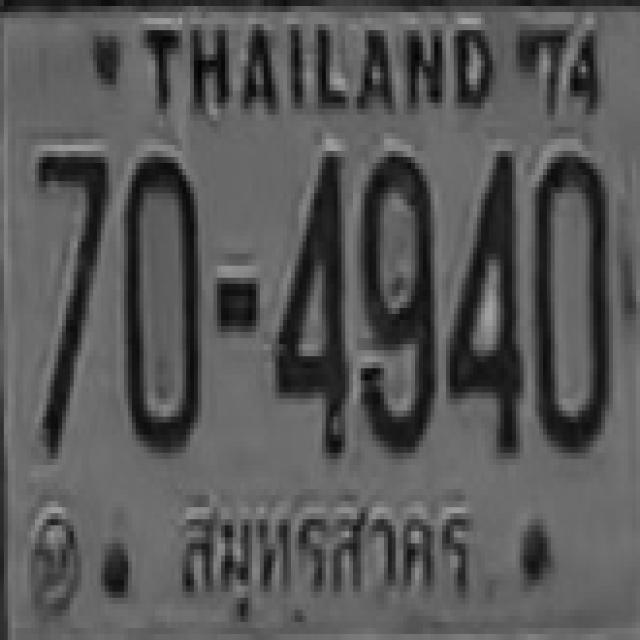0: (531, 148, 609, 450), (120, 151, 198, 447)
4: (446, 145, 520, 453), (272, 148, 345, 450)
7: (35, 145, 105, 453)
9: (357, 148, 434, 450)
SamutSakhon: (160, 487, 485, 615)
